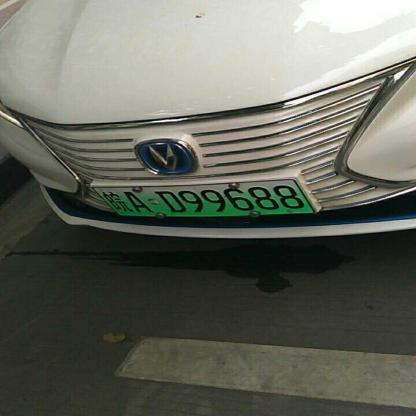lp: (95, 177, 316, 216)
